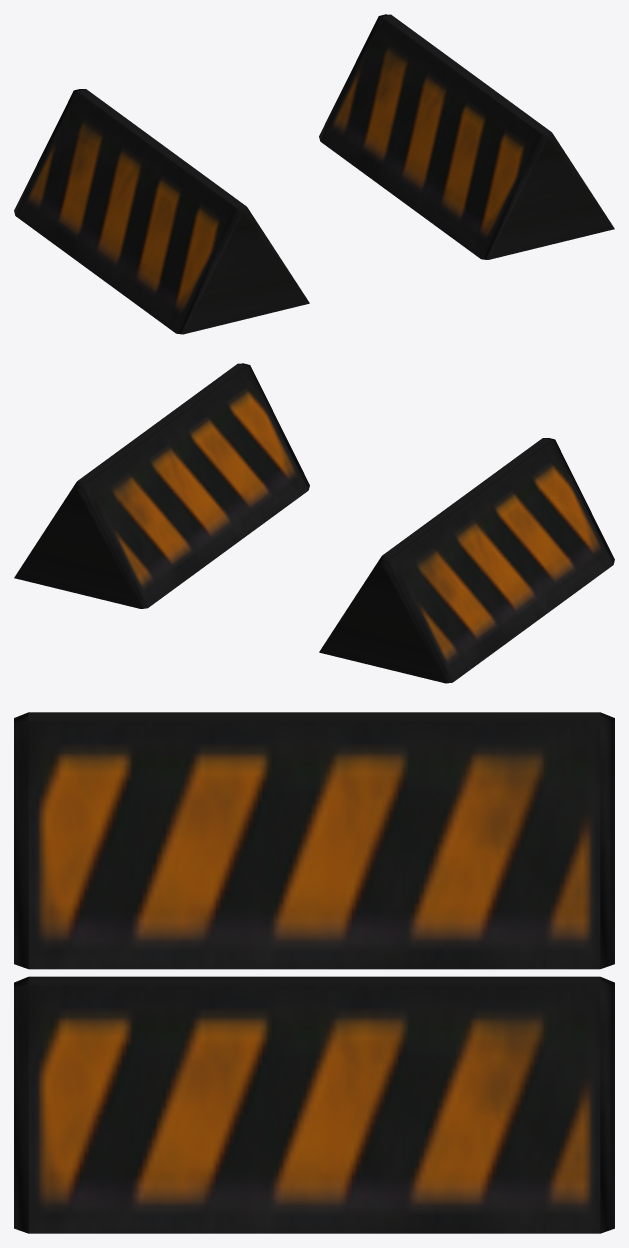
Rendered from chock_nose.glb.
3 renders of one model, top to bottom at view 1: azimuth 30°, elevation 25°; view 2: azimuth 150°, elevation 25°; view 3: azimuth 270°, elevation 25°, orthographic. The views are drawn at different scales.
Parts seen in each view (by area): view 1: chock; view 2: chock; view 3: chock.
Boxes of the visible parts, <box> form: chock: <box>14,14,614,334</box>; chock: <box>14,363,614,683</box>; chock: <box>14,712,614,1233</box>.
Bounding box in the file's own units: 1.57 × 0.3766 × 1.05.
1 material, 1 textured.
